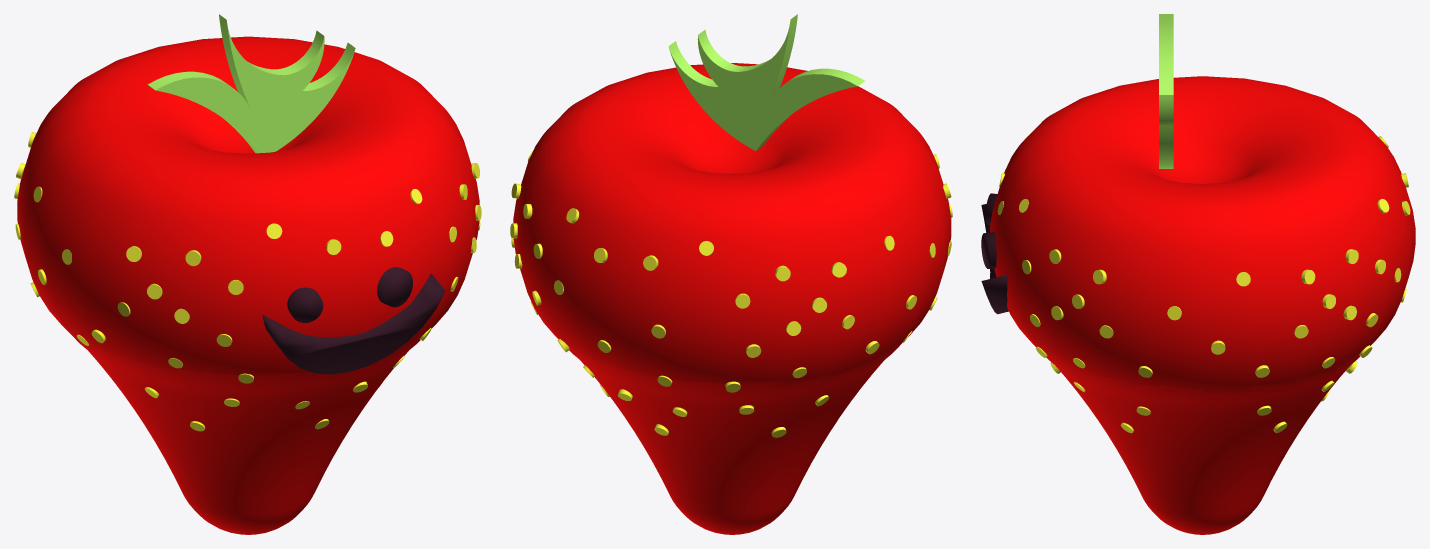
The model's file is strawberry.dae.
The picture shows the model from 3 angles, left to right: view 1: azimuth 30°, elevation 25°; view 2: azimuth 150°, elevation 25°; view 3: azimuth 270°, elevation 25°; orthographic projection. The views are drawn at different scales.
Visible parts, largest first — view 1: Component_1, Component_2, Component_7, Component_6, Component_5; view 2: Component_1, Component_2; view 3: Component_1, Component_2, Component_7, Component_6.
Part boxes in pixels (x1,y1,x2,y2): Component_1: (17, 36, 479, 534); Component_2: (148, 14, 355, 153); Component_7: (262, 273, 445, 374); Component_6: (377, 267, 412, 307); Component_5: (287, 287, 323, 322); Component_1: (513, 63, 951, 534); Component_2: (668, 14, 864, 150); Component_1: (990, 76, 1415, 534); Component_2: (1159, 14, 1173, 168); Component_7: (981, 204, 1008, 314); Component_6: (981, 232, 996, 268).
Bounding box in the file's own units: 69.6 × 70.84 × 88.99.
